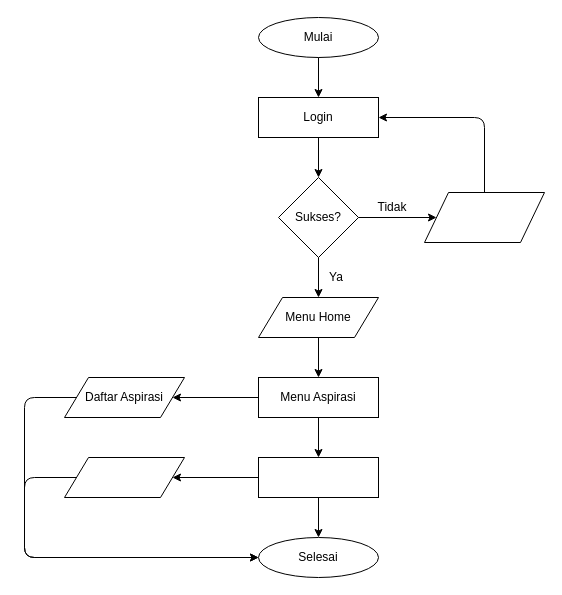
The diagram is 562 pixels wide and 595 high, and some of its shapes have lost their labels. Each missing label, with the centre of its shape:
"Menu Akun" goes at [318,477].
"Profil" goes at [124,477].
"Username atau password salah" goes at [484,217].
